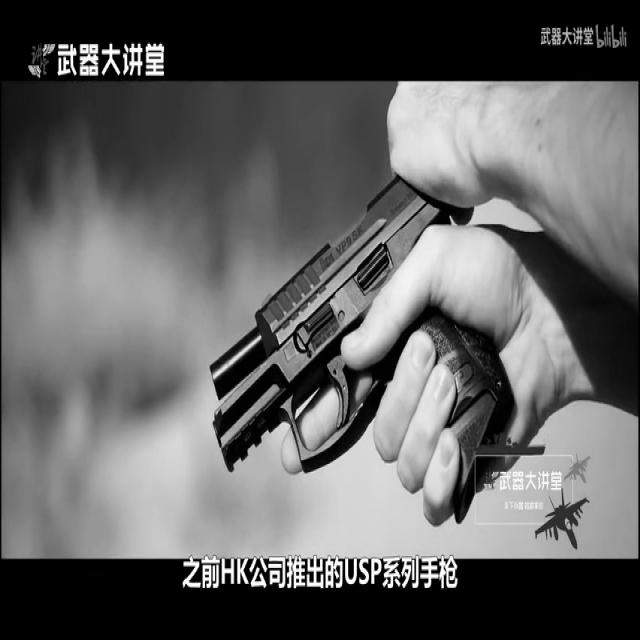Hand-Gun: (196, 130, 523, 524)
